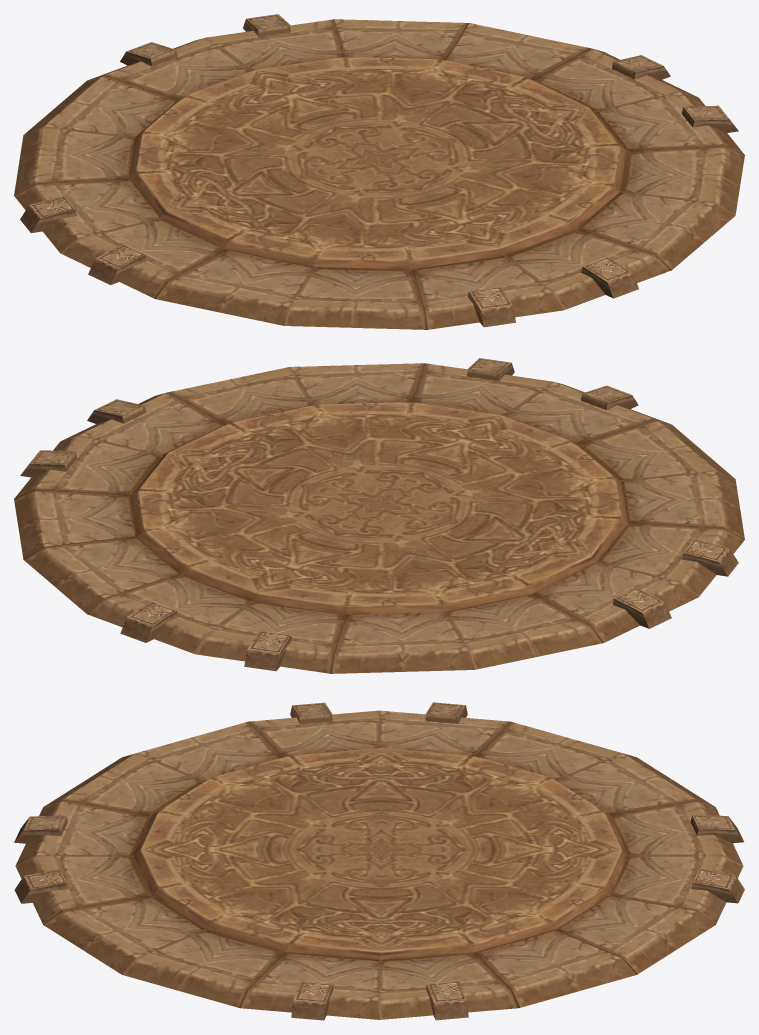
The model's file is s_battle_04_floor_01.FBX.
The picture shows the model from 3 angles, top to bottom: view 1: azimuth 30°, elevation 25°; view 2: azimuth 150°, elevation 25°; view 3: azimuth 270°, elevation 25°; orthographic projection.
Parts seen in each view (by area): view 1: s_battle_04_floor_01; view 2: s_battle_04_floor_01; view 3: s_battle_04_floor_01.
Boxes of the visible parts, left/top/right/bottom form: s_battle_04_floor_01: left=14, top=14, right=744, bottom=329; s_battle_04_floor_01: left=14, top=358, right=744, bottom=673; s_battle_04_floor_01: left=14, top=702, right=744, bottom=1020.
Size of the model in its own units: 17.74 by 0.4573 by 17.74.
Materials: 1 (1 with a texture image).
